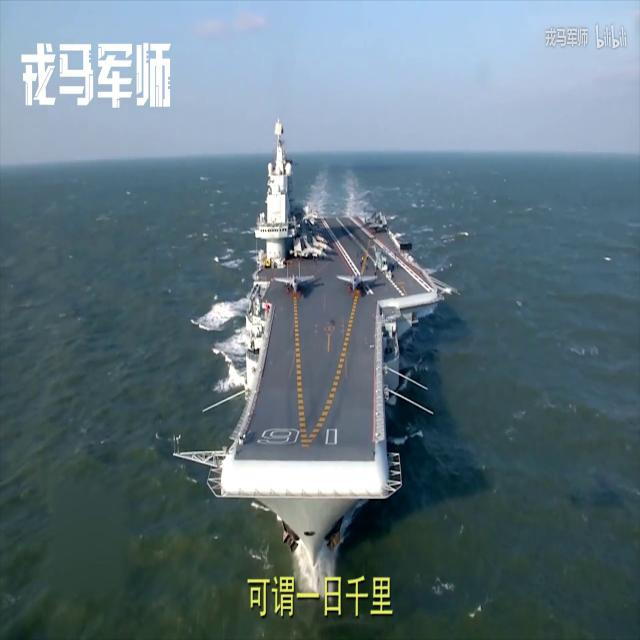navalvessels: (181, 106, 443, 556)
